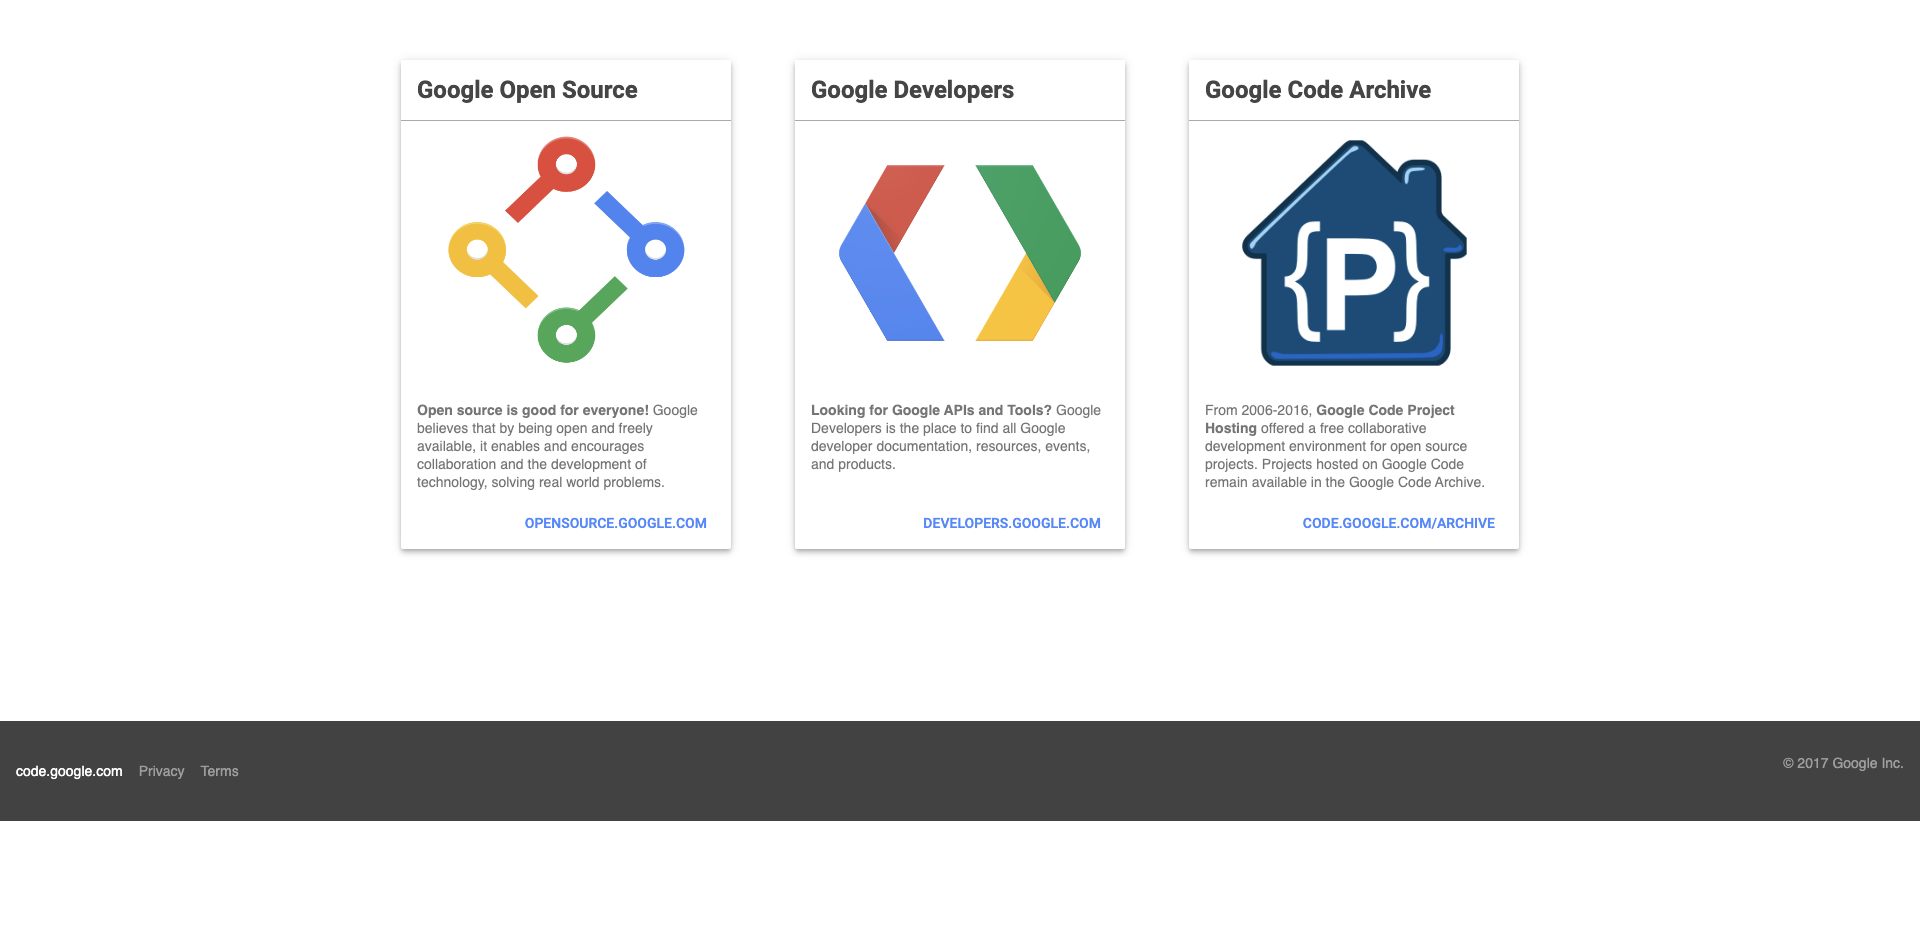button: (1287, 506, 1511, 542), (508, 506, 722, 542), (907, 506, 1117, 542)
link: (400, 60, 731, 497), (795, 60, 1125, 497), (1189, 60, 1520, 497), (1303, 516, 1495, 532), (525, 516, 707, 532), (923, 516, 1101, 532), (138, 763, 185, 779), (201, 763, 239, 779)
